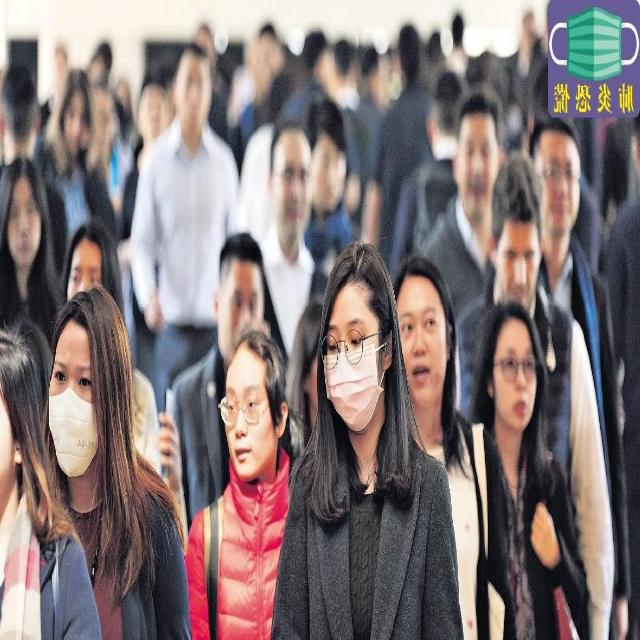face: (44, 289, 134, 480), (322, 240, 396, 418), (450, 92, 506, 223), (398, 274, 450, 407), (224, 354, 275, 486), (264, 125, 314, 257), (528, 121, 584, 238), (303, 94, 353, 215), (490, 318, 540, 436), (4, 149, 44, 281), (495, 207, 542, 313), (50, 68, 96, 174), (217, 257, 264, 360), (169, 44, 214, 142), (68, 234, 104, 309), (139, 88, 169, 142)
